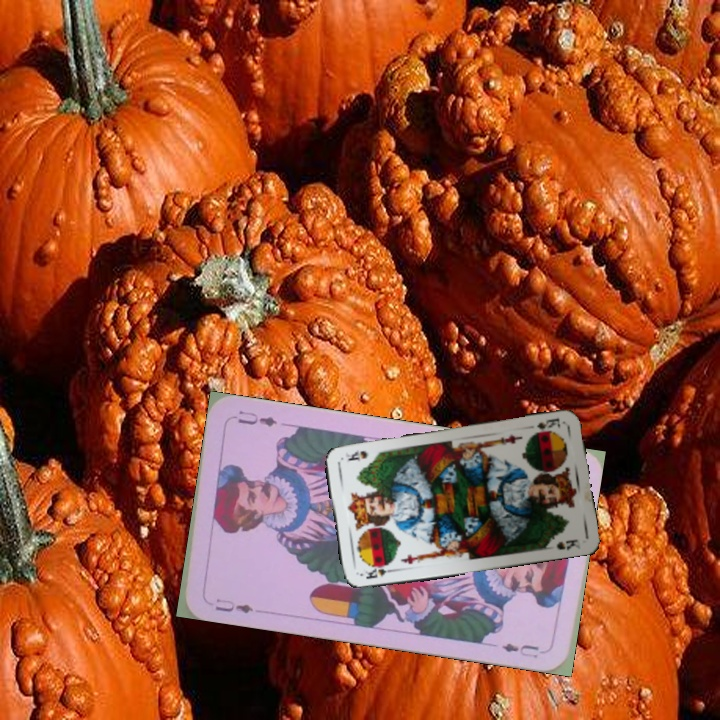EU: (211, 594, 256, 617)
SK: (361, 563, 398, 581), (533, 414, 563, 432)
